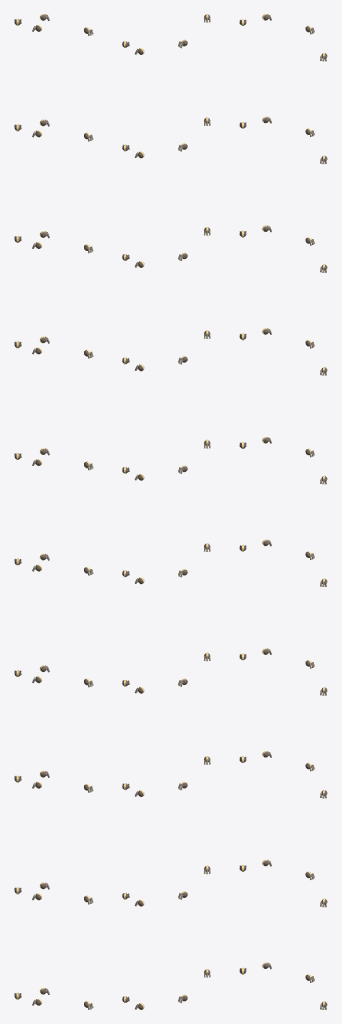
File: Circle4Crowd0.obj
3 views of the same model, side by side, from view 1: azimuth 30°, elevation 25°; view 2: azimuth 150°, elevation 25°; view 3: azimuth 330°, elevation 25° (orthographic). The views are drawn at different scales.
Parts seen in each view (by area): view 1: Circle4Crowd0; view 2: Circle4Crowd0; view 3: Circle4Crowd0.
Boxes of the visible parts, bbox=[...] form: Circle4Crowd0: bbox=[14, 14, 93, 1009]; Circle4Crowd0: bbox=[122, 14, 210, 1009]; Circle4Crowd0: bbox=[239, 14, 327, 1009].
Bounding box in the file's own units: 25.46 × 326 × 20.34.
1 material, 1 textured.
